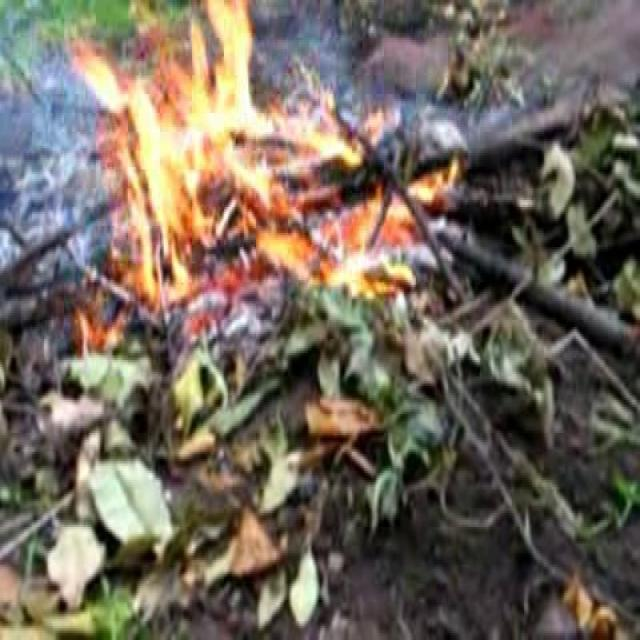Fire: (89, 23, 452, 266)
